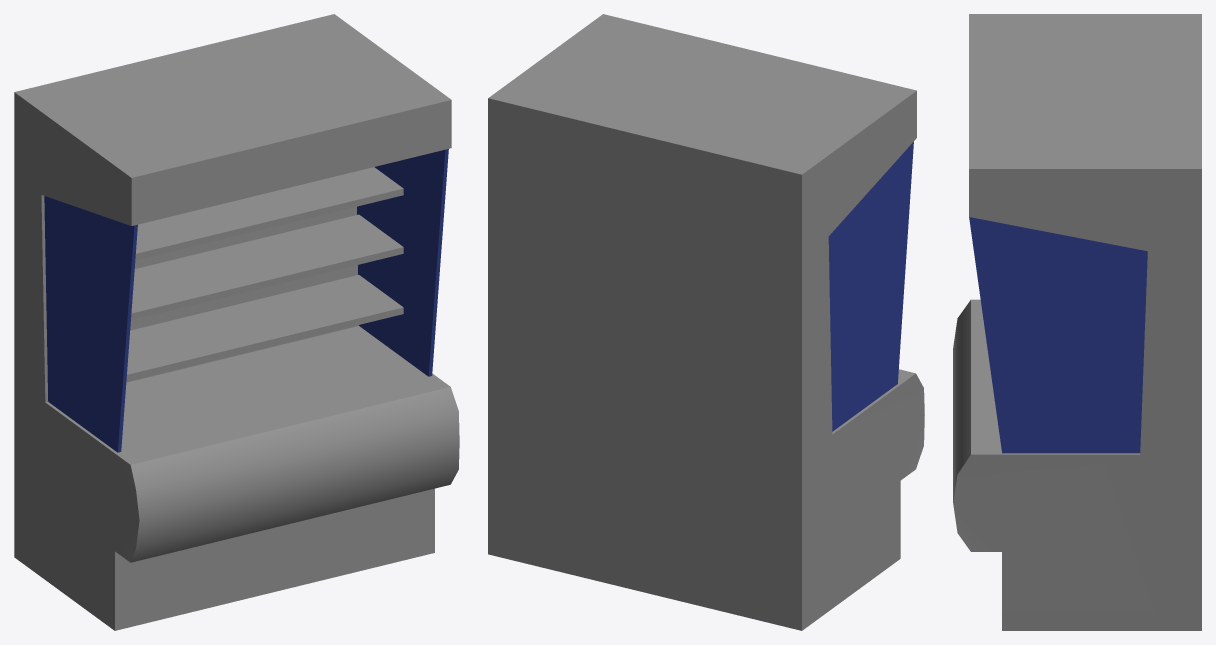
File: DisplayRefri.fbx
3 views of the same model, side by side, from view 1: azimuth 30°, elevation 25°; view 2: azimuth 150°, elevation 25°; view 3: azimuth 270°, elevation 25° (orthographic).
Parts seen in each view (by area): view 1: DisplayRefri; view 2: DisplayRefri; view 3: DisplayRefri.
Part boxes in pixels (x1,y1,x2,y2): DisplayRefri: (14, 14, 459, 630); DisplayRefri: (488, 14, 924, 630); DisplayRefri: (953, 14, 1201, 630).
Size of the model in its own units: 328 by 452 by 220.
